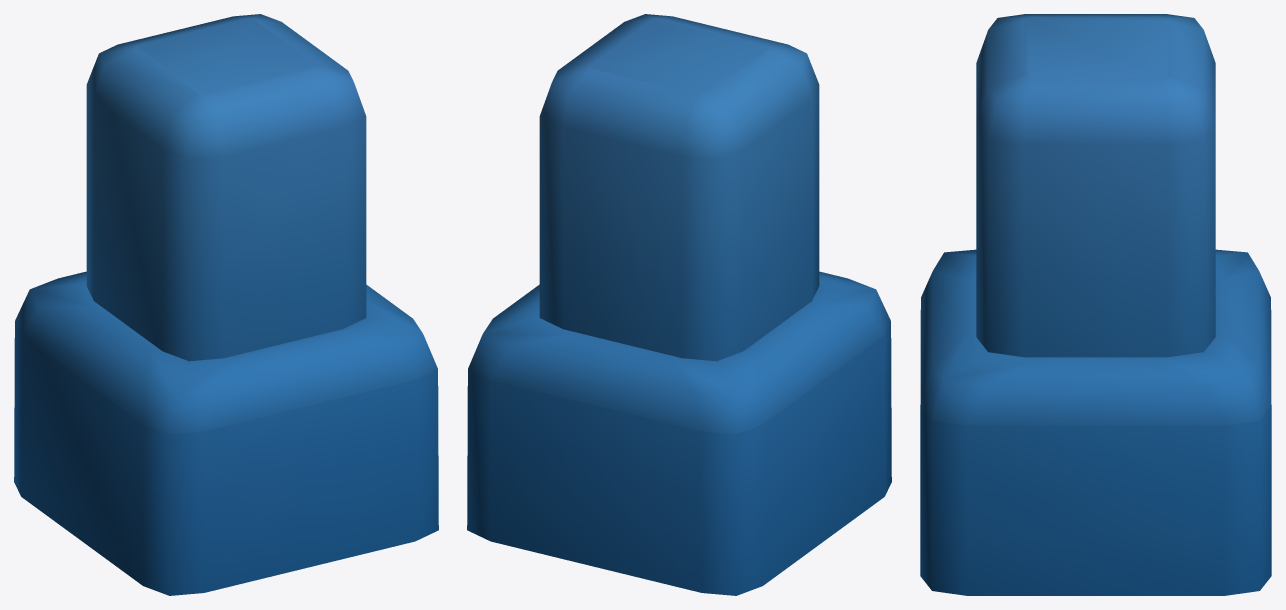
Rendered from pole_parent.fbx.
3 renders of one model, left to right at view 1: azimuth 30°, elevation 25°; view 2: azimuth 150°, elevation 25°; view 3: azimuth 270°, elevation 25°, orthographic. The views are drawn at different scales.
Parts seen in each view (by area): view 1: pole_parent; view 2: pole_parent; view 3: pole_parent.
Boxes of the visible parts, <box> form: pole_parent: <box>14,14,438,595</box>; pole_parent: <box>467,14,891,595</box>; pole_parent: <box>920,14,1271,595</box>.
Bounding box in the file's own units: 49.91 × 74.19 × 49.91.
